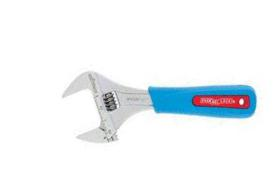wrench: (16, 65, 264, 121)
